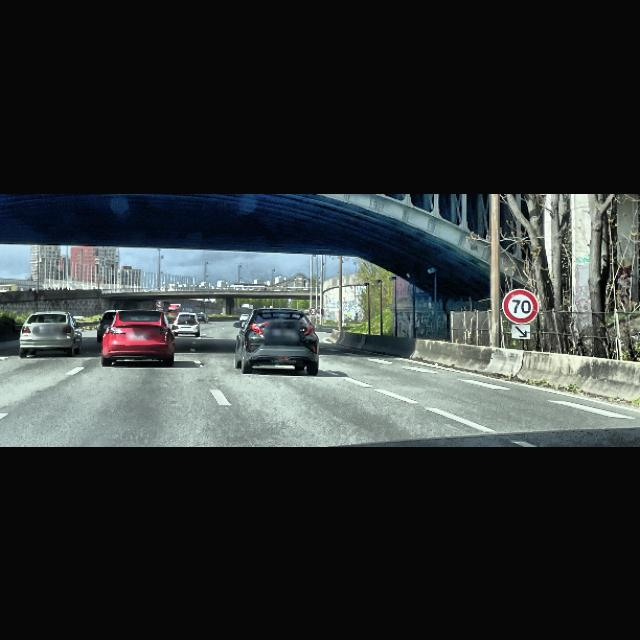speed_70: (502, 288, 542, 322)
